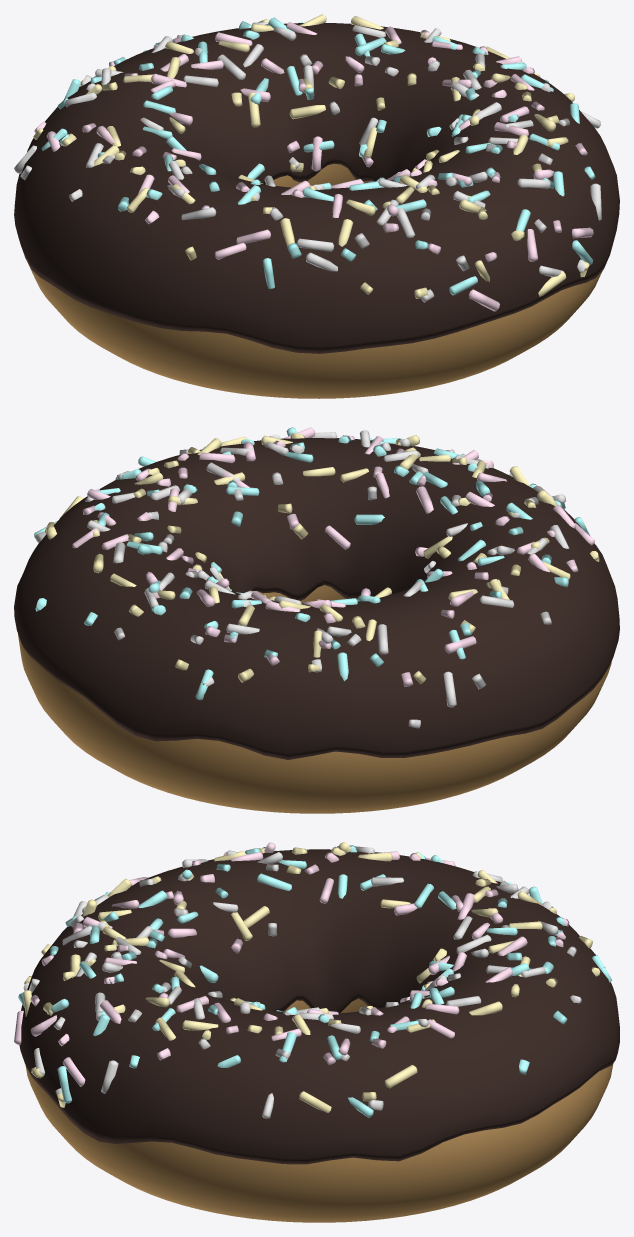
The model's file is donut.fbx.
3 renders of one model, top to bottom at view 1: azimuth 30°, elevation 25°; view 2: azimuth 150°, elevation 25°; view 3: azimuth 270°, elevation 25°, orthographic.
Parts seen in each view (by area): view 1: Torus.000, Torus.001; view 2: Torus.000, Torus.001; view 3: Torus.000, Torus.001.
Boxes of the visible parts, x1=… form: Torus.000: x1=14, y1=23, x2=619, y2=353; Torus.001: x1=26, y1=163, x2=602, y2=398; Torus.000: x1=14, y1=437, x2=619, y2=759; Torus.001: x1=18, y1=585, x2=611, y2=813; Torus.000: x1=19, y1=849, x2=619, y2=1164; Torus.001: x1=25, y1=998, x2=613, y2=1222.
Size of the model in its own units: 307 by 113 by 310.
